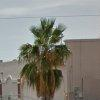Tree: (18, 6, 74, 92)
